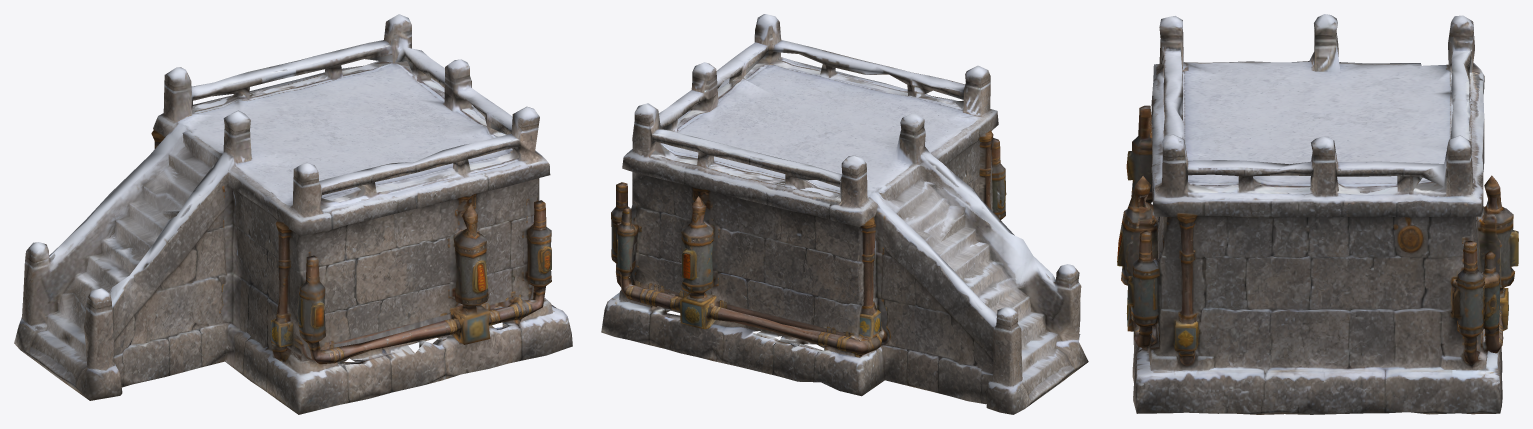
The model's file is PR_Dansang.fbx.
3 renders of one model, left to right at view 1: azimuth 30°, elevation 25°; view 2: azimuth 150°, elevation 25°; view 3: azimuth 270°, elevation 25°, orthographic. The views are drawn at different scales.
Parts seen in each view (by area): view 1: texture_mapping; view 2: texture_mapping; view 3: texture_mapping.
Part boxes in pixels (<box>): texture_mapping: <box>14,14,572,414</box>; texture_mapping: <box>601,14,1088,414</box>; texture_mapping: <box>1117,14,1518,414</box>.
Bounding box in the file's own units: 0.9966 × 0.7387 × 0.5394.
1 material, 1 textured.
